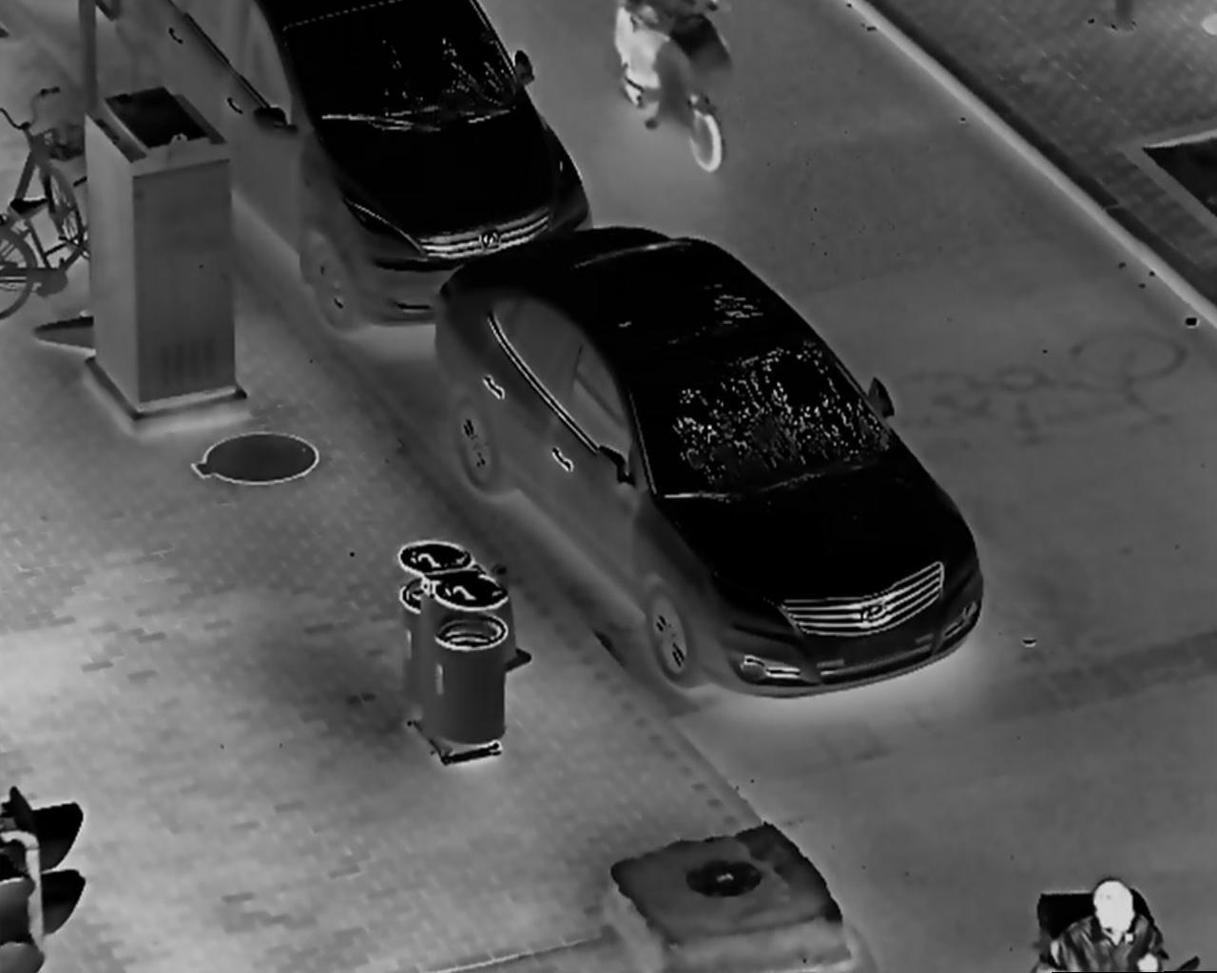person: (1034, 874, 1189, 973)
